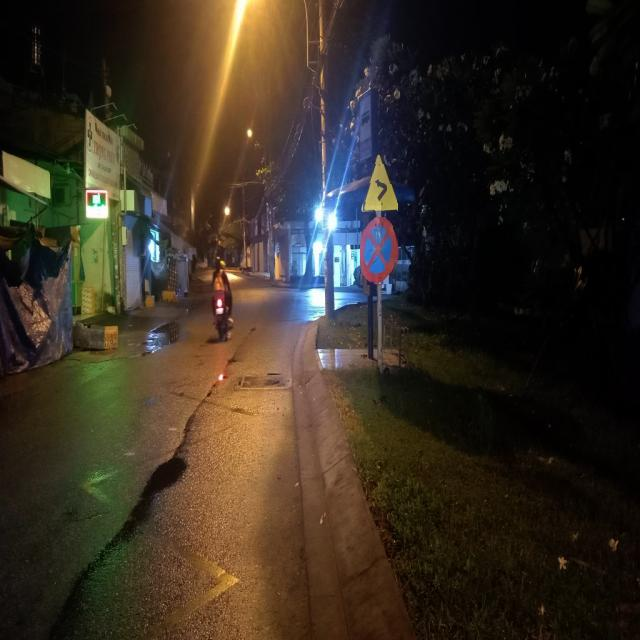cam_dung_xe_va_do_xe: (361, 218, 398, 286)
cho_ngoat_nguy_hiem_ben_trai: (361, 154, 398, 212)
